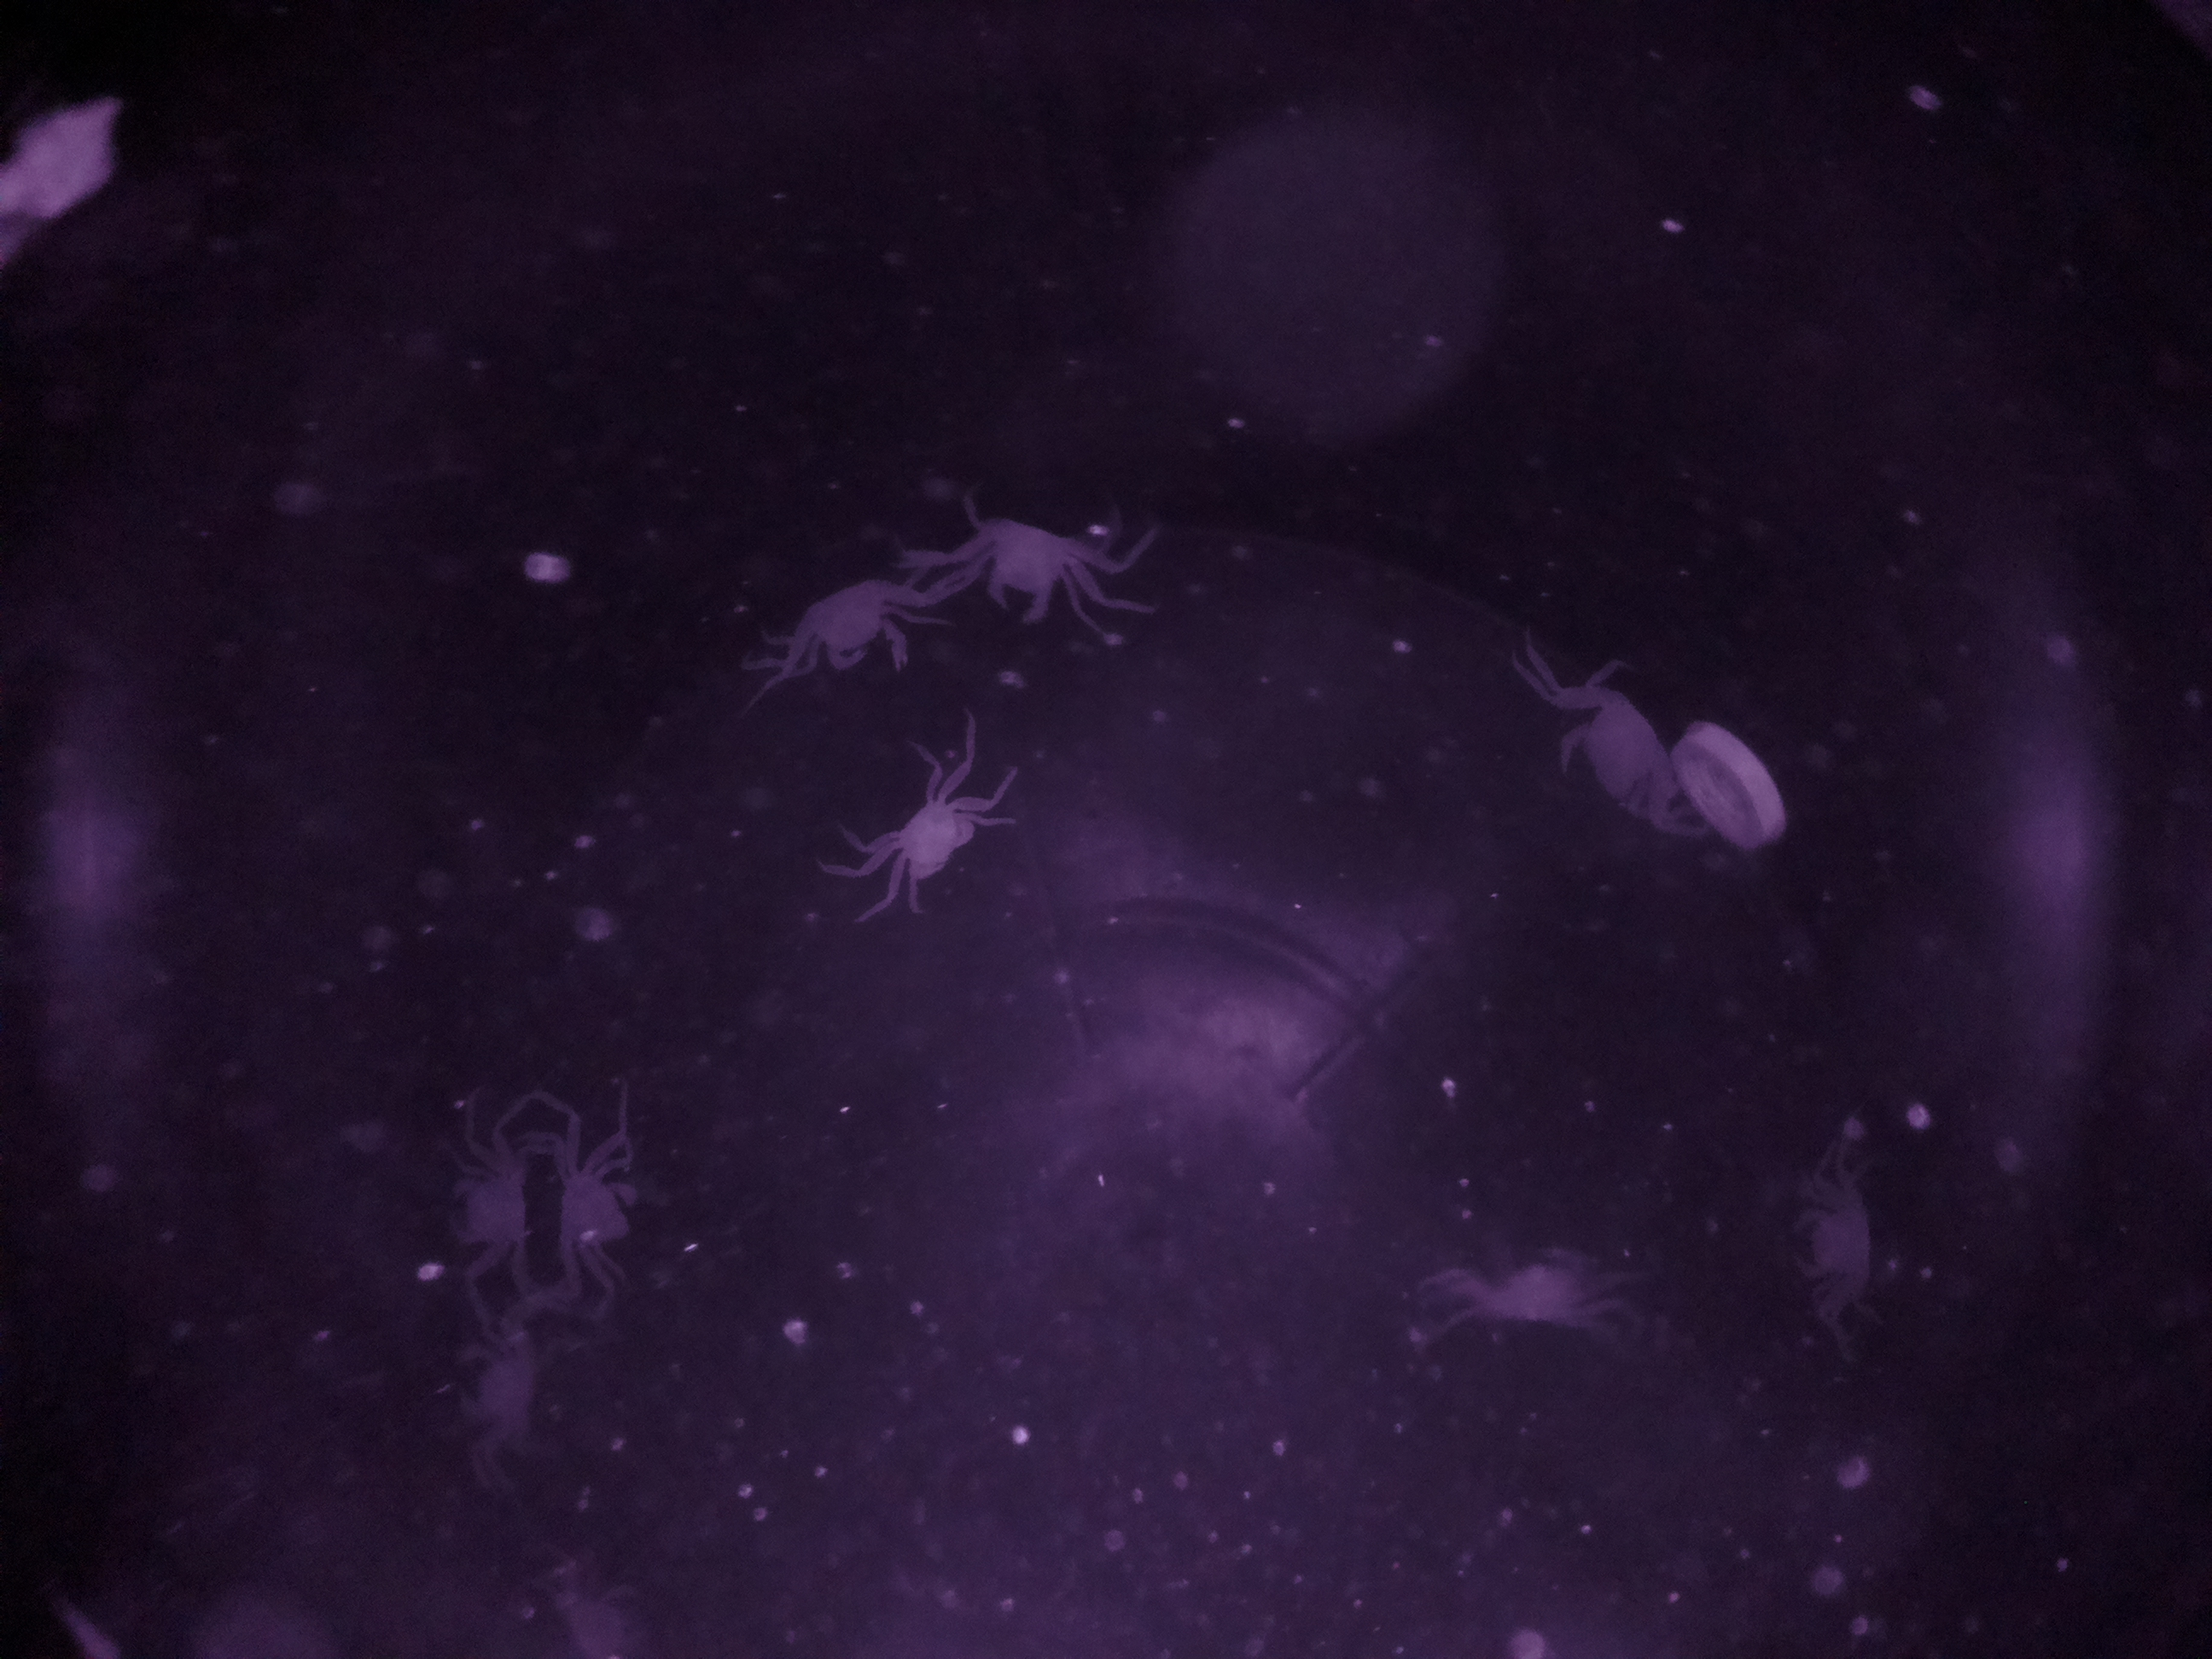Crab: (946, 484, 1127, 641), (780, 549, 935, 702), (876, 762, 1001, 908)
